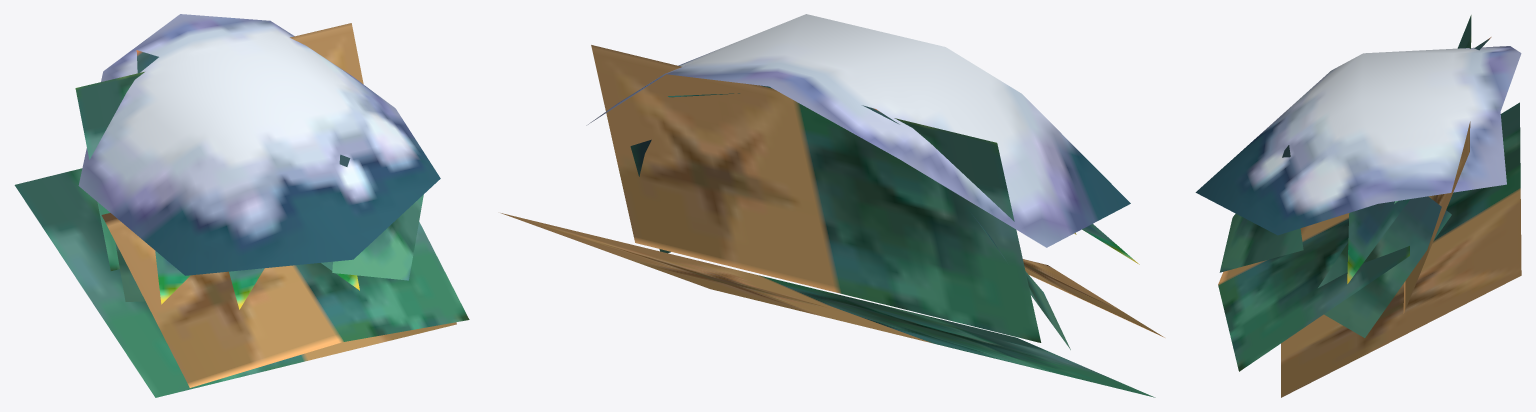
Rendered from fg_bushC_2_bl.dae.
The picture shows the model from 3 angles, left to right: view 1: azimuth 30°, elevation 25°; view 2: azimuth 150°, elevation 25°; view 3: azimuth 270°, elevation 25°; orthographic projection. The views are drawn at different scales.
Visible parts, largest first — view 1: fg_bushC_2_bl; view 2: fg_bushC_2_bl; view 3: fg_bushC_2_bl.
Part boxes in pixels (x1,y1,x2,y2): fg_bushC_2_bl: (14,14,469,397); fg_bushC_2_bl: (501,14,1164,397); fg_bushC_2_bl: (1195,15,1521,397).
Size of the model in its own units: 47.83 by 34.27 by 38.04.
1 material, 1 textured.
